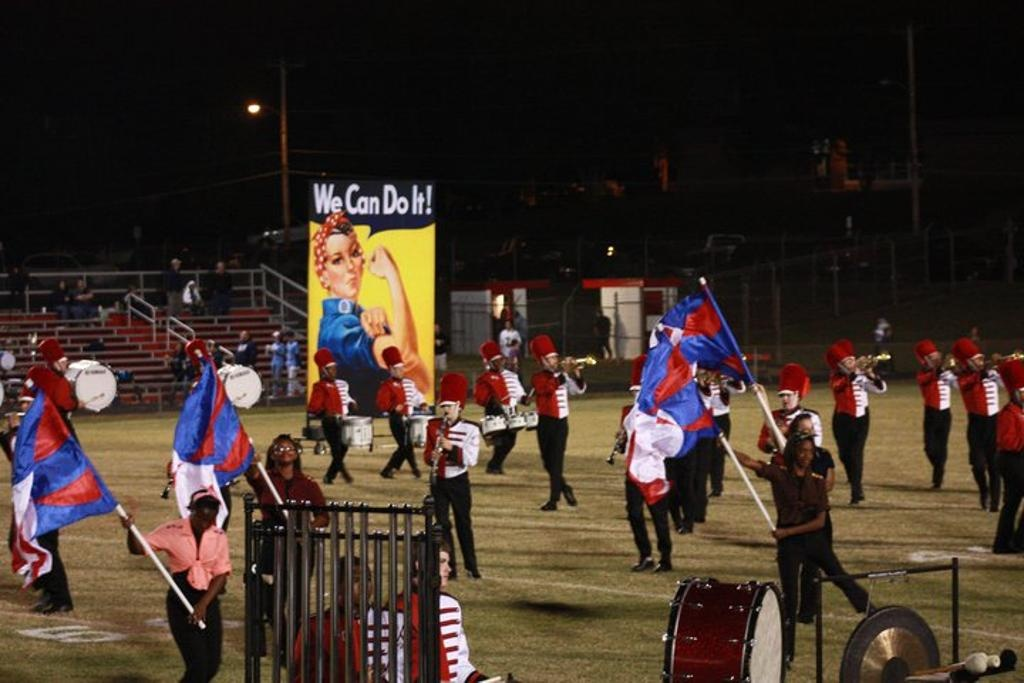human_face: (322, 237, 362, 297), (340, 566, 372, 602), (420, 549, 450, 587), (273, 439, 297, 462), (194, 507, 216, 531), (796, 441, 812, 467), (796, 420, 814, 442), (838, 354, 856, 374), (926, 354, 942, 369), (22, 401, 36, 418), (440, 401, 454, 418), (545, 352, 559, 368), (970, 353, 984, 369), (782, 392, 794, 408), (326, 363, 336, 378), (492, 355, 502, 369), (394, 364, 402, 378), (58, 358, 66, 370), (240, 332, 246, 340)
